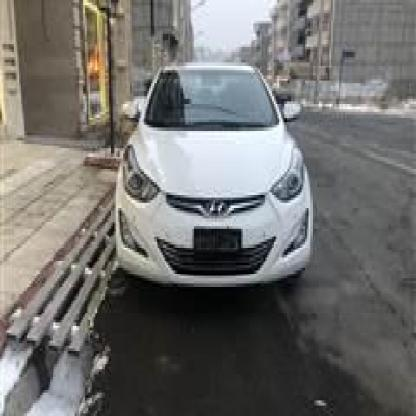Car: (104, 60, 321, 296)
